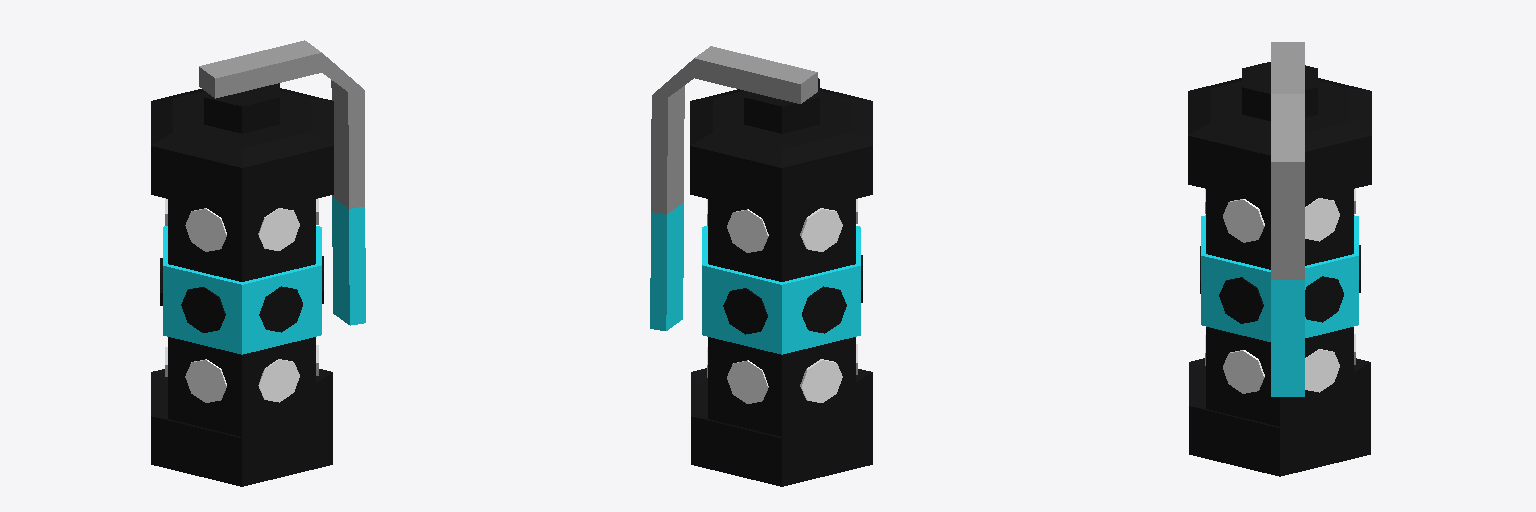
File: FlashTwo.obj
The picture shows the model from 3 angles: view 1: azimuth 30°, elevation 25°; view 2: azimuth 150°, elevation 25°; view 3: azimuth 270°, elevation 25°; orthographic projection.
Parts seen in each view (by area): view 1: FlashTwo; view 2: FlashTwo; view 3: FlashTwo.
Part boxes in pixels (x1,y1,x2,y2): FlashTwo: (151,40,365,486); FlashTwo: (650,46,872,486); FlashTwo: (1188,42,1371,476).
Size of the model in its own units: 0.4602 by 0.799 by 0.3463.